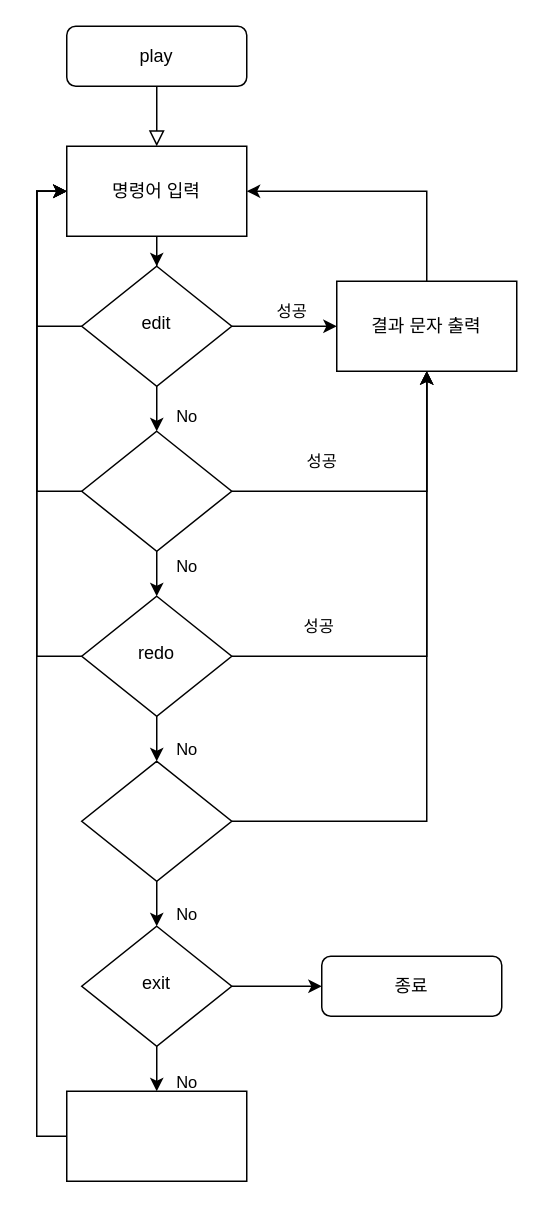
Some shapes in this 543 by 1208 pixel diagram are drawn without their labels. Each missing label, with the box of its shape:
help: (80, 760, 232, 881)
undo: (80, 430, 232, 551)
해당 없음: (65, 1090, 247, 1181)
